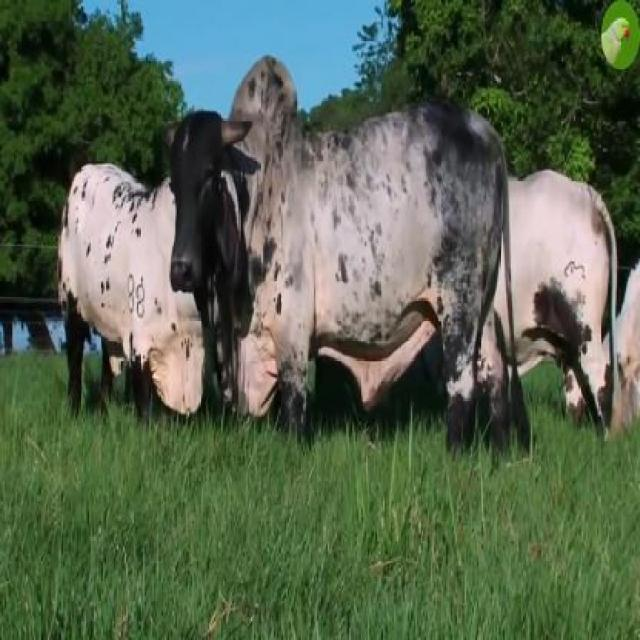Cow: (155, 112, 517, 466)
